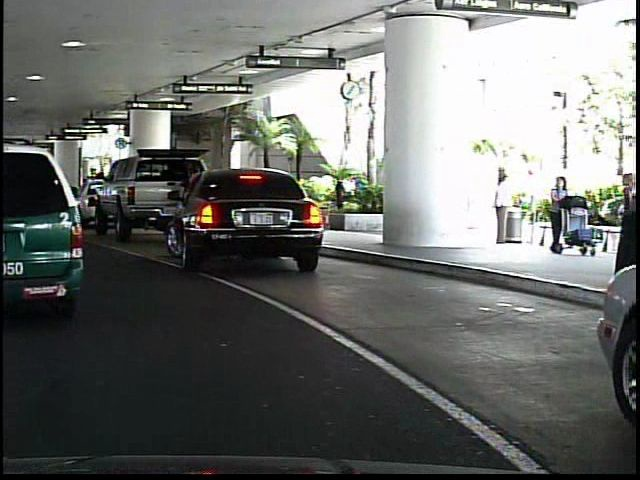person: (544, 172, 569, 256)
